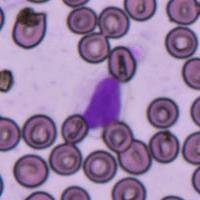L: (71, 71, 128, 130)
